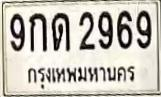2: (78, 10, 94, 50)
6: (116, 10, 132, 48)
9: (9, 12, 24, 51), (97, 10, 112, 49), (136, 10, 151, 48)
A01: (28, 12, 46, 51)
A20: (51, 12, 69, 50)
BKK: (26, 64, 137, 89)
